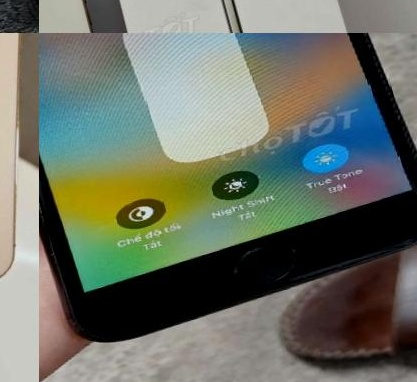scratch: (39, 33, 104, 345), (281, 225, 417, 289), (404, 193, 417, 238)
